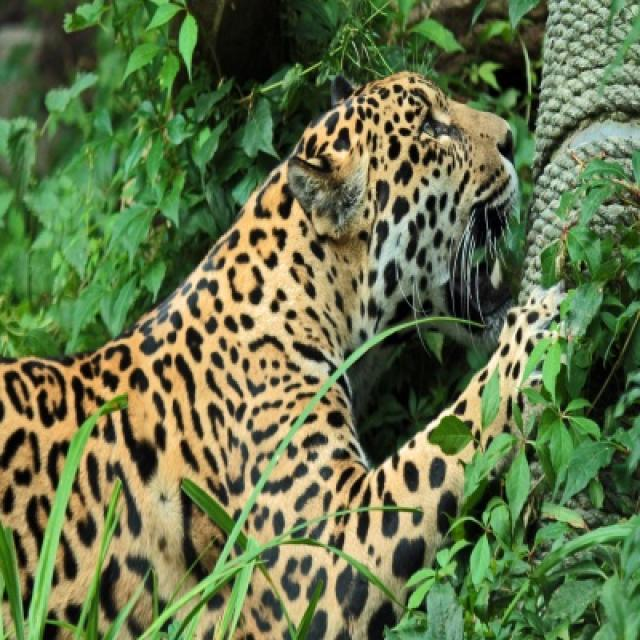Jaguar: (0, 70, 526, 638)
